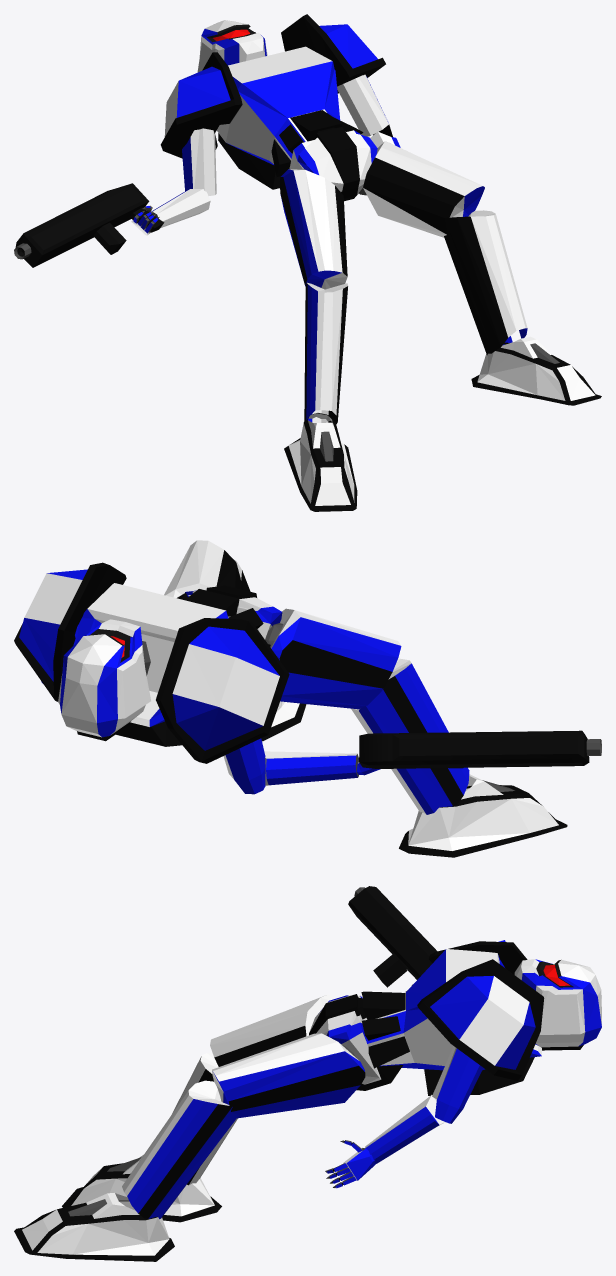
The model's file is robots_000024.obj.
3 views of the same model, one above another, from view 1: azimuth 30°, elevation 25°; view 2: azimuth 150°, elevation 25°; view 3: azimuth 270°, elevation 25° (orthographic). The views are drawn at different scales.
Visible parts, largest first — view 1: Chest_plate_Cube.004, R_Shin.002_Cube.029, R_Thigh.002_Cube.027, R_Thigh_Cube.005, Cube_Cube.001, R_Shin_Cube.007, R_Foot.002_Cube.035, R_Foot_Cube, Cube.002_Cube.059, Pelvis_Cube.006, Cube_Cube.021, Head_base_Cube.022 (+3 smaller); view 2: Cube.002_Cube.059, R_Thigh_Cube.005, Head_base_Cube.022, Cube_Cube.001, Chest_plate_Cube.004, R_Foot_Cube, R_Shin_Cube.007, Cube_Cube.021, R_Forearm_Cube.008, R_Thigh.002_Cube.027, R_Arm_Cube.002, Pelvis_Cube.006 (+1 smaller); view 3: Cube_Cube.021, R_Thigh.002_Cube.027, Chest_plate_Cube.004, R_Foot.002_Cube.035, R_Shin.002_Cube.029, Head_base_Cube.022, Cube_Cube.001, R_Thigh_Cube.005, Pelvis_Cube.006, R_Foot_Cube, L_Arm_Cube.014, L_Forearm_Cube.020 (+3 smaller).
Boxes of the visible parts, <box> form: Chest_plate_Cube.004: <box>216,46,363,189</box>; R_Shin.002_Cube.029: <box>444,210,527,355</box>; R_Thigh.002_Cube.027: <box>363,141,484,237</box>; R_Thigh_Cube.005: <box>279,169,347,289</box>; Cube_Cube.001: <box>14,183,164,267</box>; R_Shin_Cube.007: <box>304,282,347,424</box>; R_Foot.002_Cube.035: <box>471,336,601,405</box>; R_Foot_Cube: <box>284,413,357,511</box>; Cube.002_Cube.059: <box>160,52,242,158</box>; Pelvis_Cube.006: <box>289,127,377,201</box>; Cube_Cube.021: <box>281,14,385,93</box>; Head_base_Cube.022: <box>197,20,267,72</box>; Cube.002_Cube.059: <box>156,618,289,763</box>; R_Thigh_Cube.005: <box>271,608,401,709</box>; Head_base_Cube.022: <box>58,619,150,741</box>; Cube_Cube.001: <box>359,730,601,768</box>; Chest_plate_Cube.004: <box>73,583,270,746</box>; R_Foot_Cube: <box>399,774,567,857</box>; R_Shin_Cube.007: <box>351,658,469,814</box>; Cube_Cube.021: <box>14,562,126,701</box>; R_Forearm_Cube.008: <box>264,751,358,785</box>; R_Thigh.002_Cube.027: <box>164,540,241,597</box>; R_Arm_Cube.002: <box>223,738,265,794</box>; Pelvis_Cube.006: <box>185,585,282,639</box>; Cube_Cube.021: <box>417,959,544,1080</box>; R_Thigh.002_Cube.027: <box>212,1033,365,1118</box>; Chest_plate_Cube.004: <box>361,949,541,1095</box>; R_Foot.002_Cube.035: <box>14,1192,174,1261</box>; R_Shin.002_Cube.029: <box>122,1080,238,1219</box>; Head_base_Cube.022: <box>514,959,601,1050</box>; Cube_Cube.001: <box>348,886,437,987</box>; R_Thigh_Cube.005: <box>210,994,335,1066</box>; Pelvis_Cube.006: <box>309,994,403,1090</box>; R_Foot_Cube: <box>62,1155,221,1222</box>; L_Arm_Cube.014: <box>432,1046,482,1123</box>; L_Forearm_Cube.020: <box>365,1095,444,1163</box>.
Bounding box in the file's own units: 2.72 × 1.88 × 3.05.
